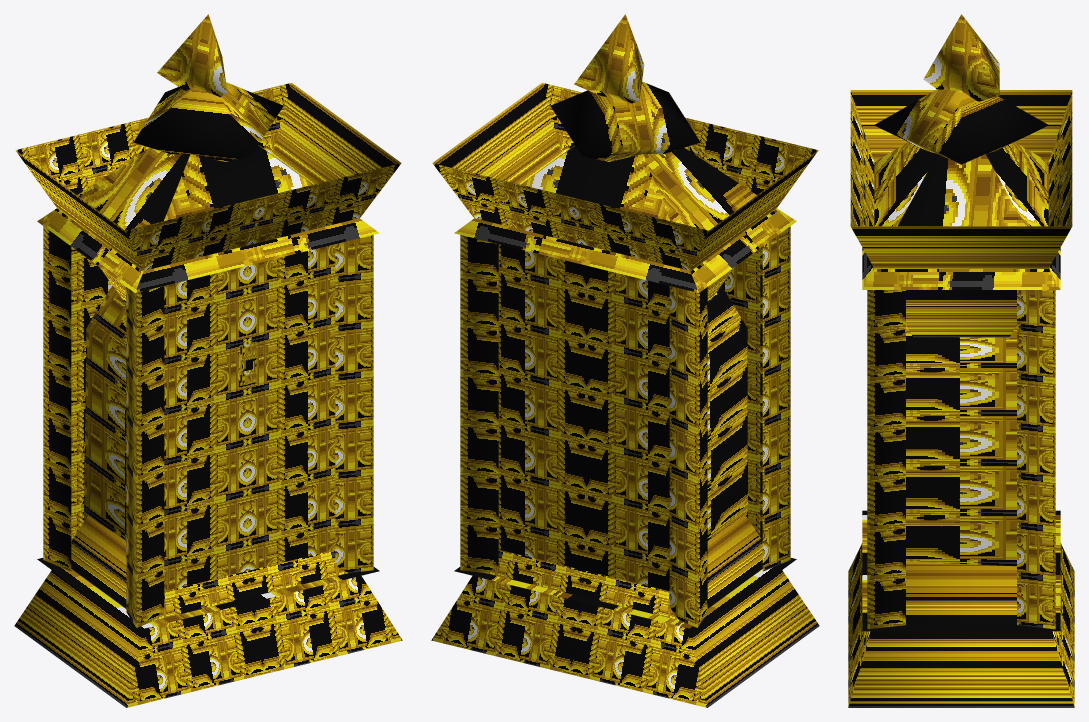
File: 3511IMEL01_28.gltf
The picture shows the model from 3 angles, left to right: view 1: azimuth 30°, elevation 25°; view 2: azimuth 150°, elevation 25°; view 3: azimuth 270°, elevation 25°; orthographic projection.
Visible parts, largest first — view 1: 3511IMEL01_28; view 2: 3511IMEL01_28; view 3: 3511IMEL01_28.
Boxes of the visible parts, left/top/right/bottom form: 3511IMEL01_28: left=14, top=14, right=402, bottom=707; 3511IMEL01_28: left=431, top=14, right=819, bottom=707; 3511IMEL01_28: left=848, top=14, right=1074, bottom=707.
Bounding box in the file's own units: 0.5433 × 1.16 × 0.3812.
1 material, 1 textured.
